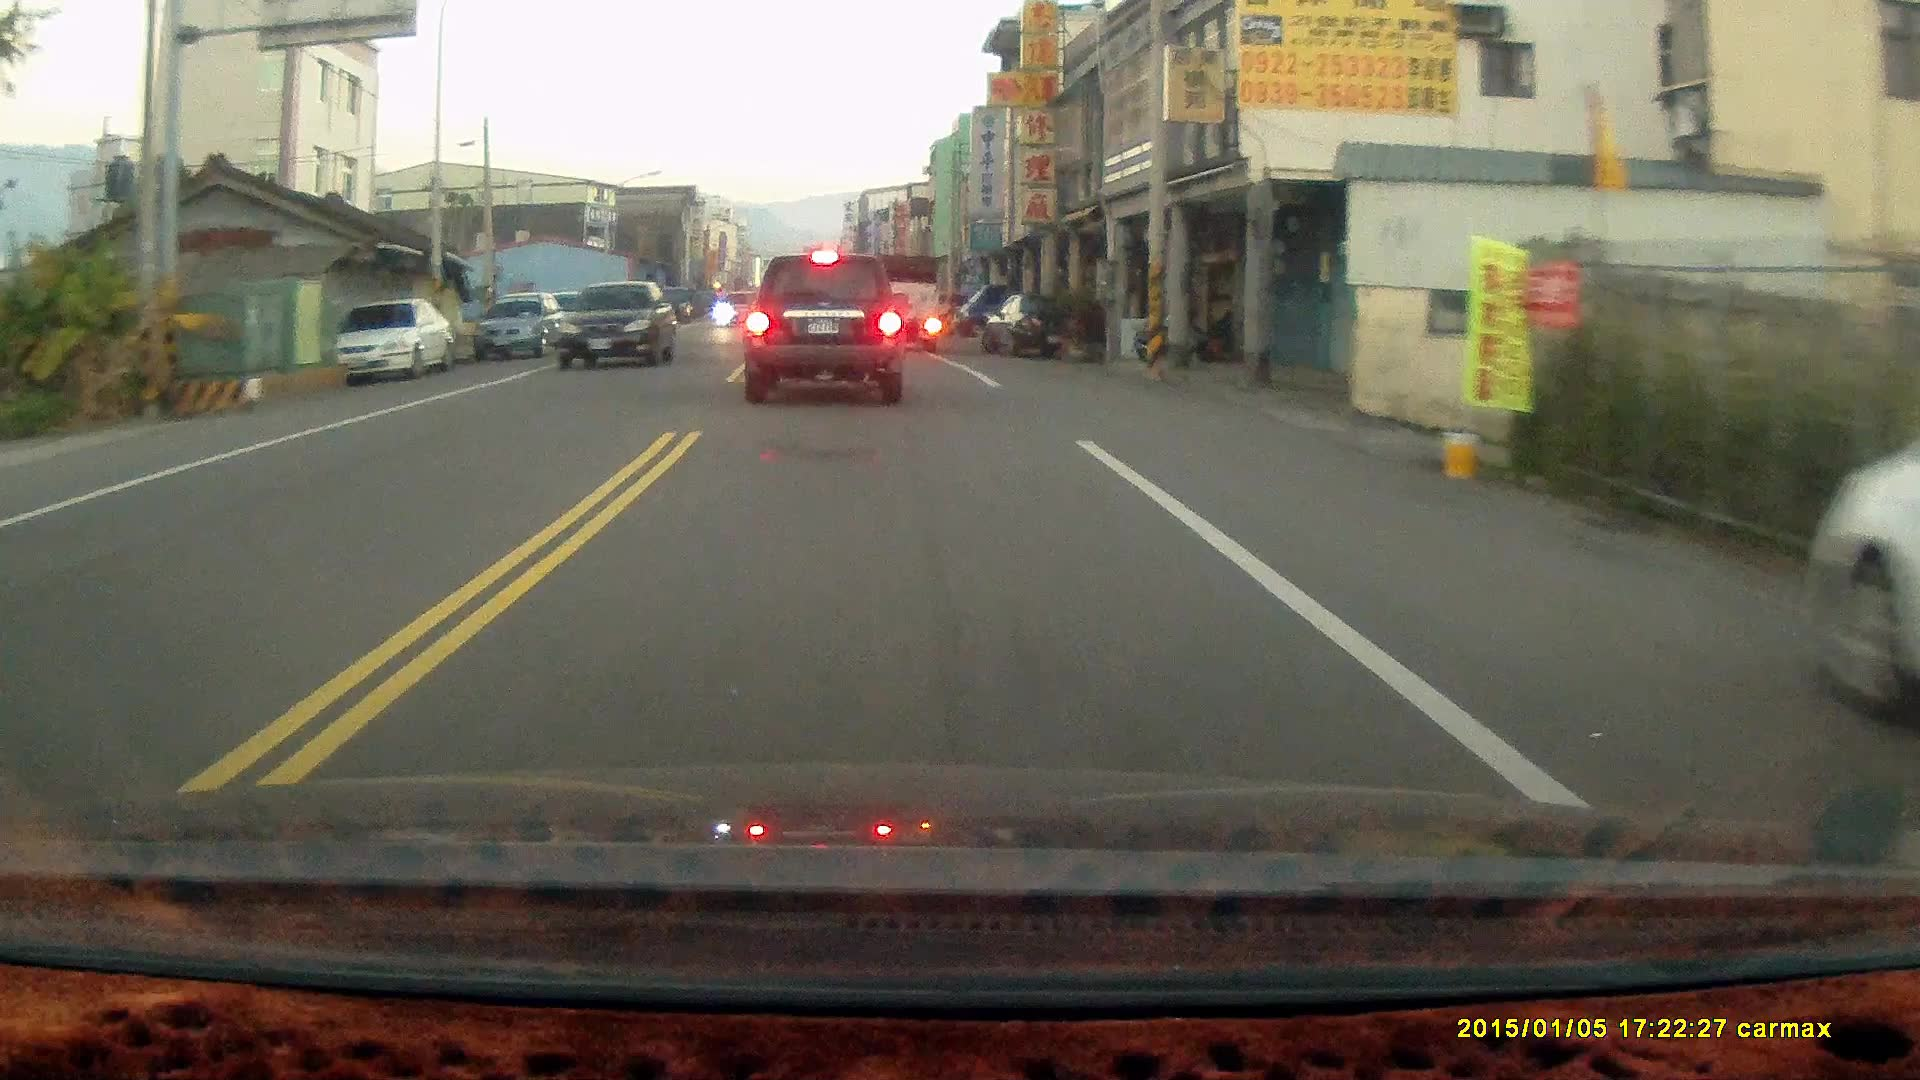vehicle: (746, 253, 911, 409), (562, 282, 679, 371), (335, 299, 458, 380), (866, 255, 945, 353), (480, 290, 574, 363)
